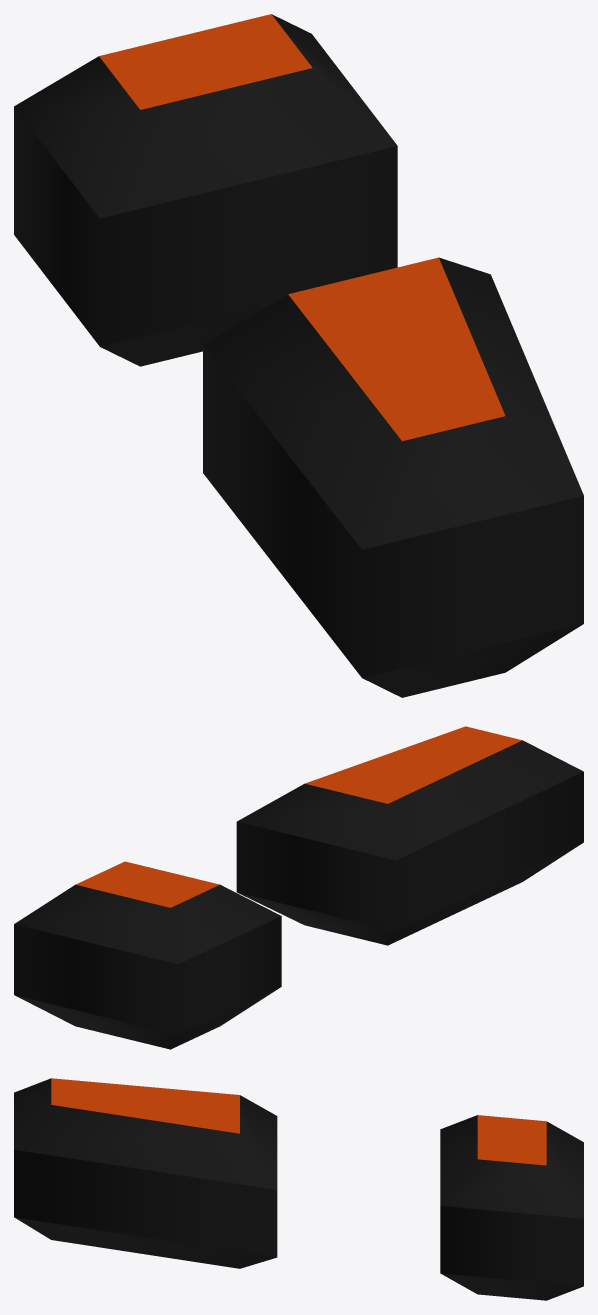
The model's file is PointVirgule.fbx.
3 renders of one model, top to bottom at view 1: azimuth 30°, elevation 25°; view 2: azimuth 150°, elevation 25°; view 3: azimuth 270°, elevation 25°, orthographic. The views are drawn at different scales.
Parts seen in each view (by area): view 1: Text; view 2: Text; view 3: Text.
Part boxes in pixels (<box>): Text: <box>14,14,583,697</box>; Text: <box>14,726,583,1049</box>; Text: <box>14,1078,583,1300</box>.
Bounding box in the file's own units: 0.3204 × 0.16 × 0.6117.
